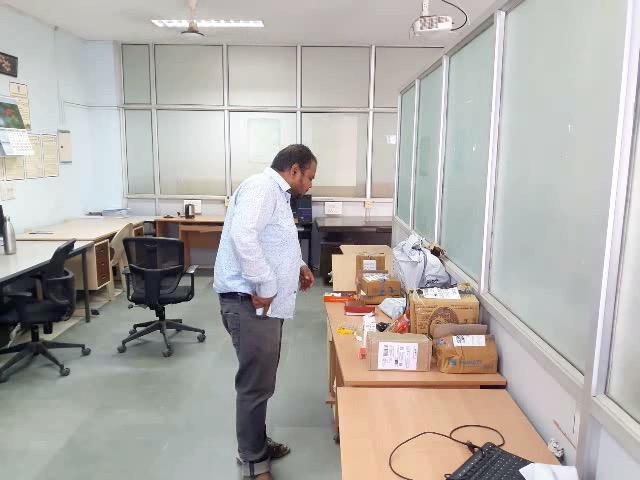shoplifting: (183, 231, 358, 400)
